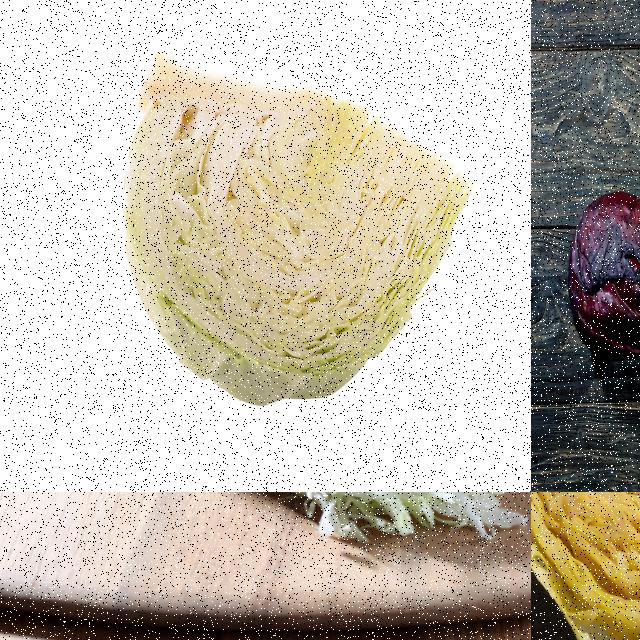cabbage: (115, 50, 475, 410), (531, 492, 639, 639), (567, 187, 639, 370)
